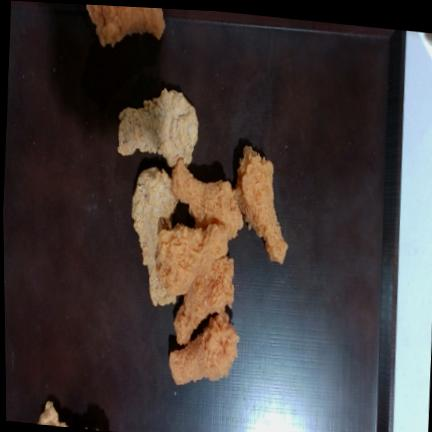chicken: (234, 146, 288, 264), (132, 167, 178, 305), (172, 163, 243, 240), (174, 256, 234, 344), (157, 224, 228, 296), (169, 312, 239, 384)
